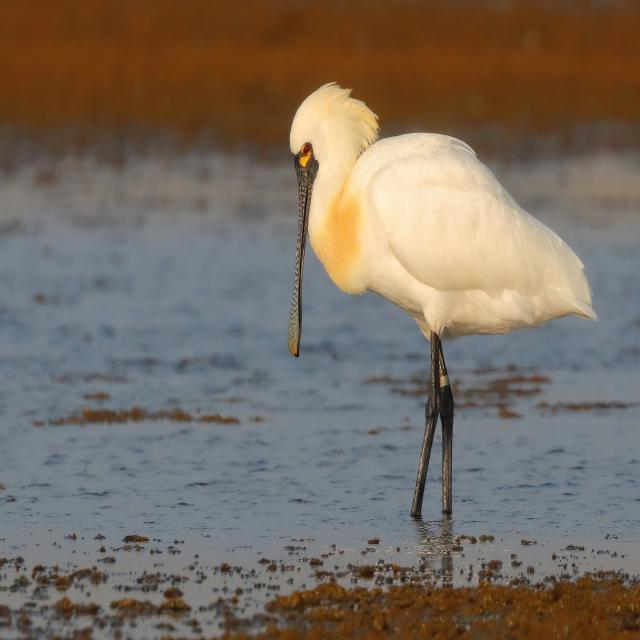Black-faced spoonbill: (289, 84, 596, 514)
